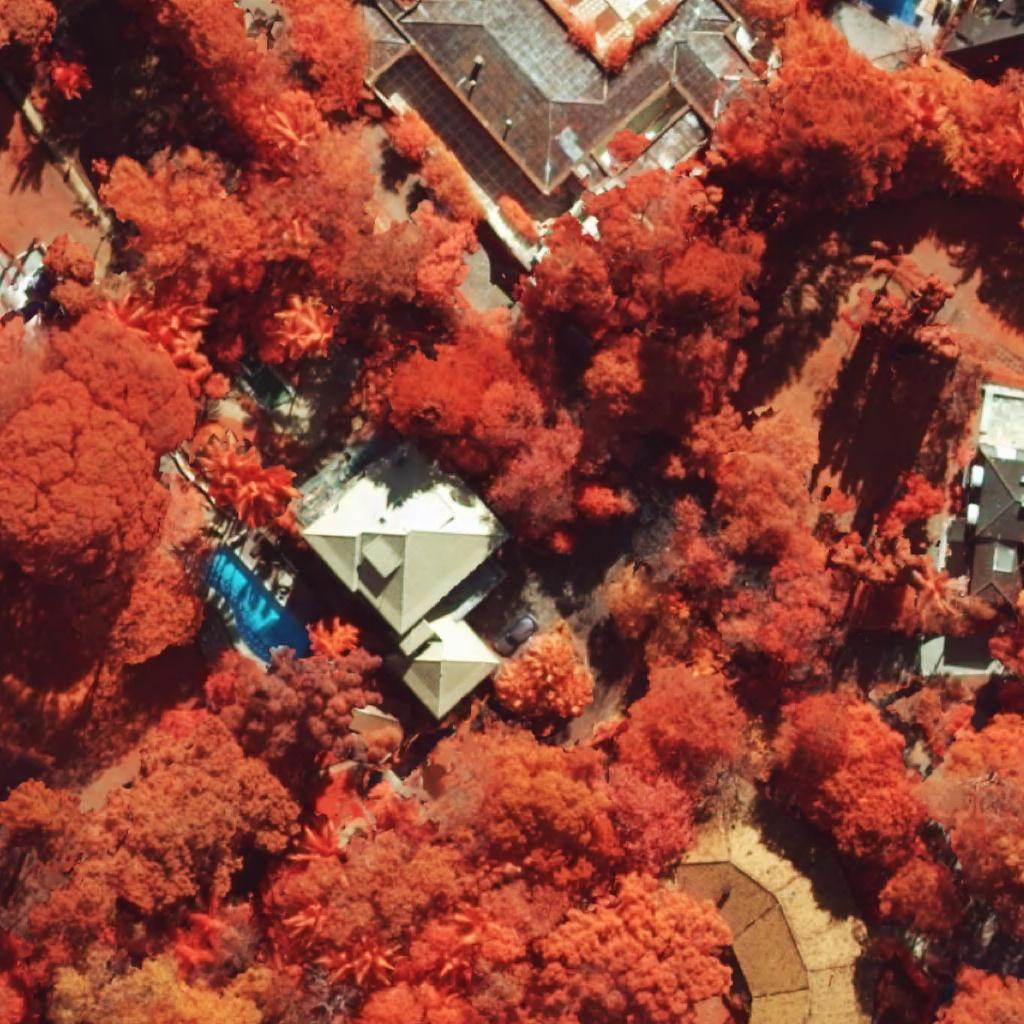pool: (206, 544, 310, 663), (861, 0, 923, 29)
